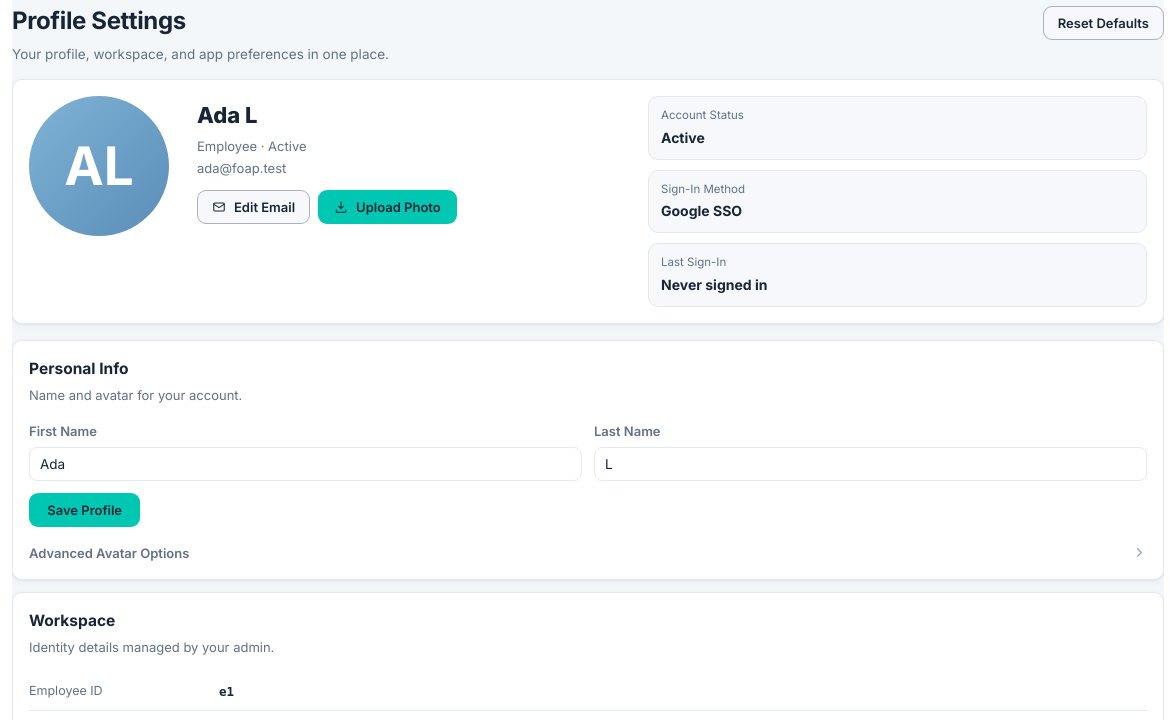
Test: SettingsPage › saves first and last name without resending an unchanged avatar
Expected: the field labelled "First Name" is shown, [29, 447, 582, 481]
Replace the text in the field labelled "Last Name" with "Lovelace" at [870, 464], box [594, 447, 1147, 481]
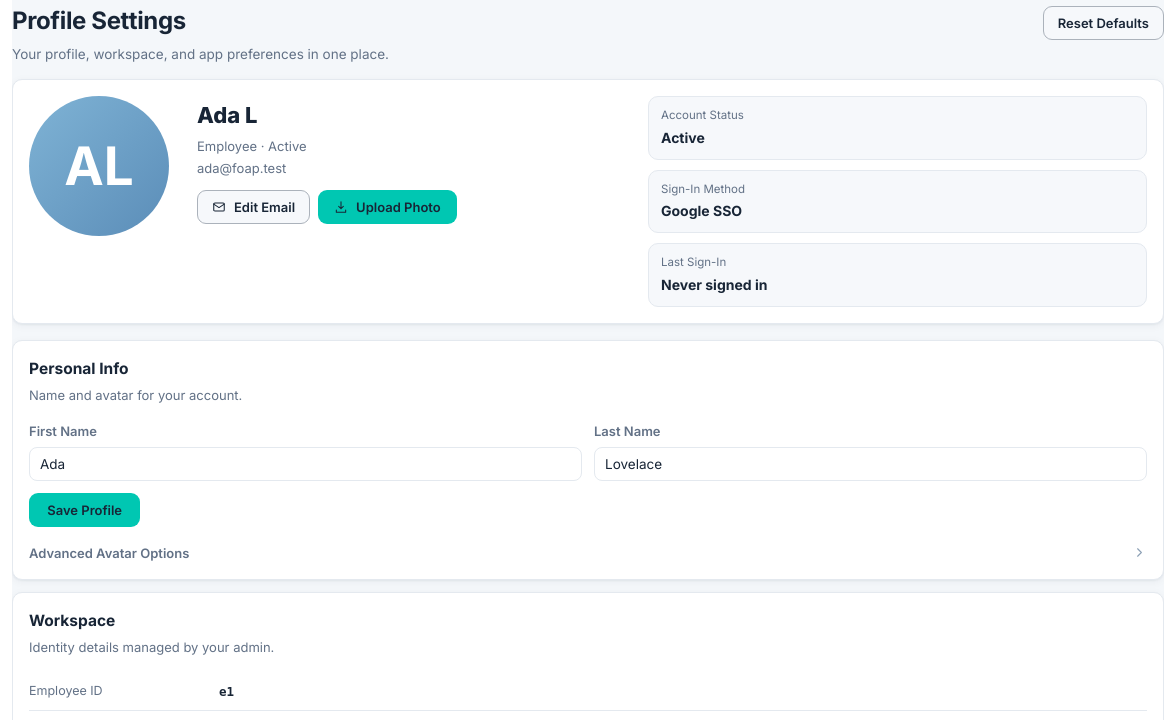
Click the button "Save Profile" at [85, 510], box [29, 493, 140, 527]
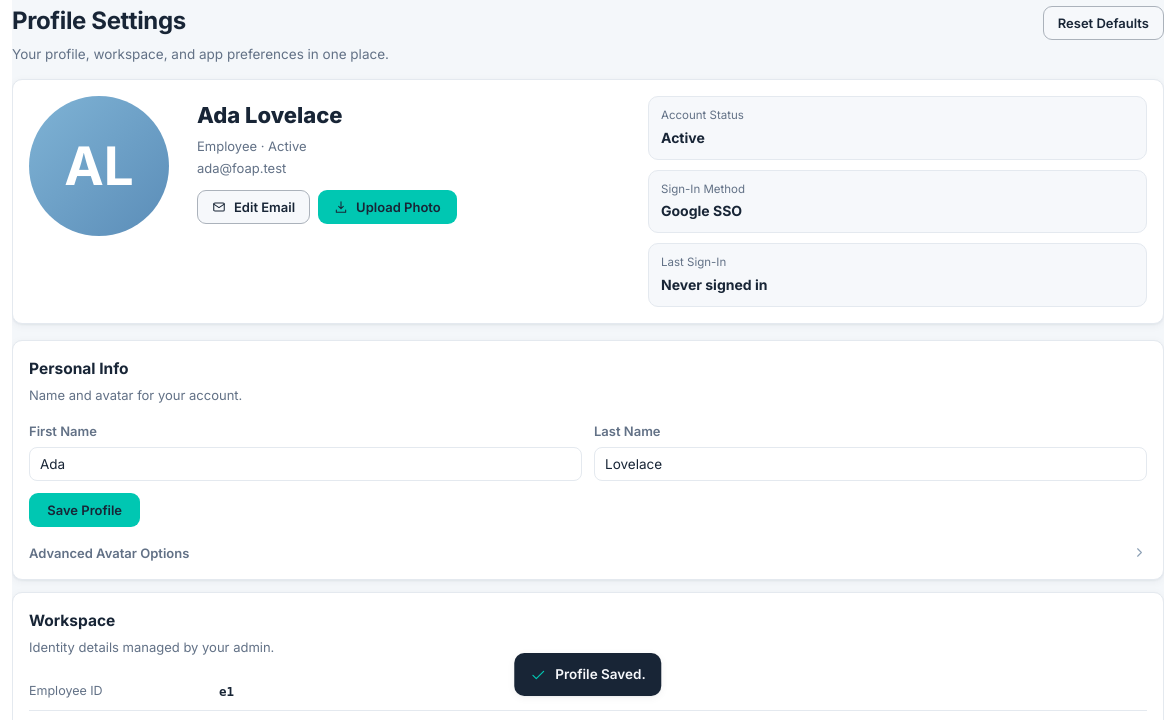
Now the text "Profile Saved." is shown, box [555, 664, 646, 685]
